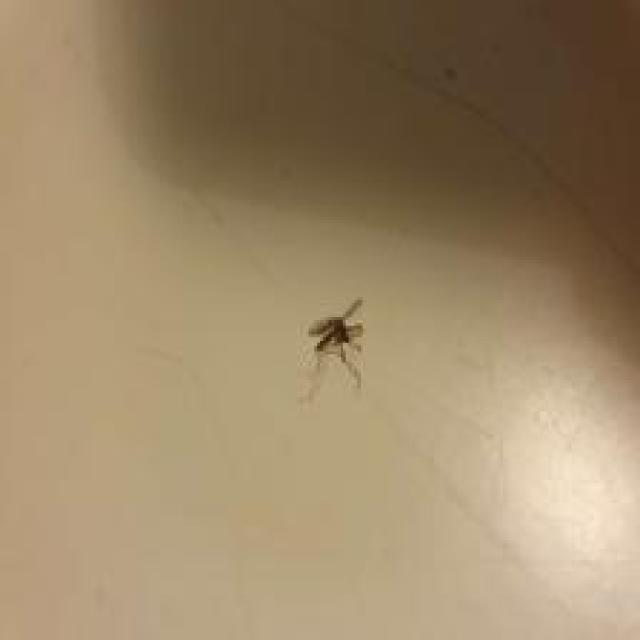Culex: (306, 296, 366, 390)
